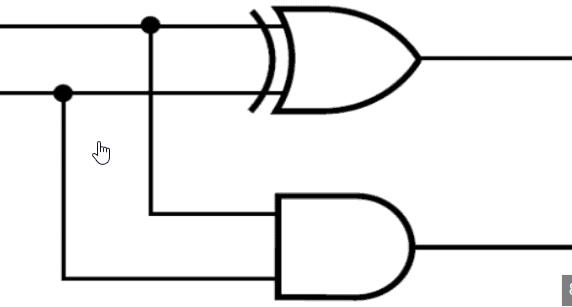and: (266, 188, 420, 305)
xor: (245, 2, 424, 117)
